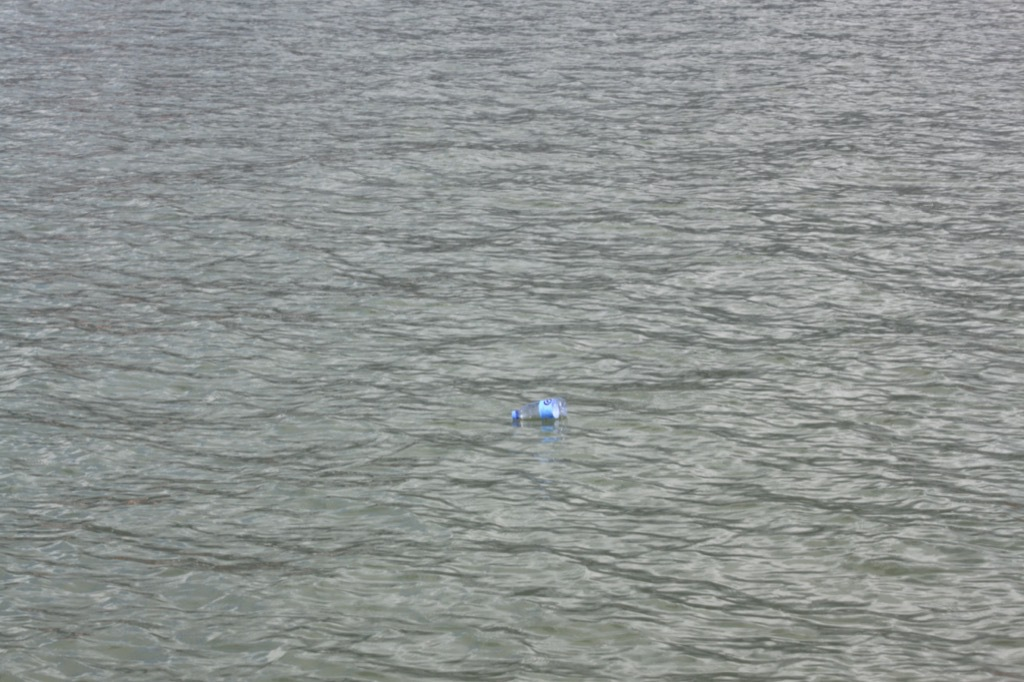plastic: (490, 373, 589, 441)
